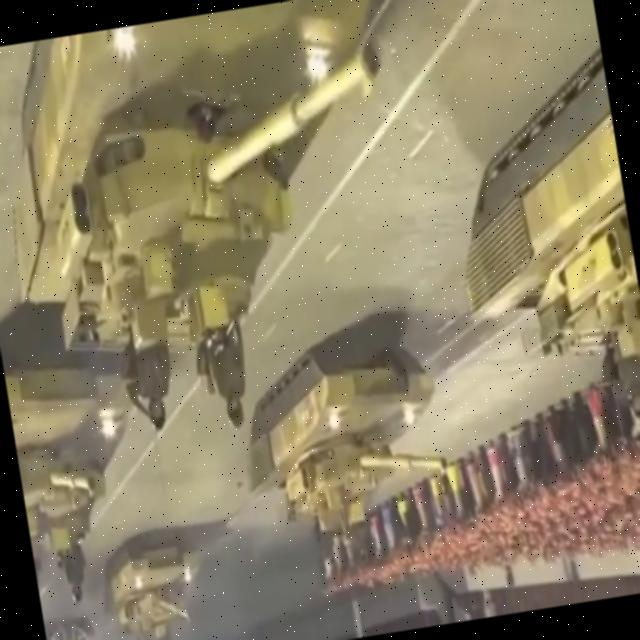north tank: (0, 0, 448, 374), (442, 45, 640, 453), (204, 310, 479, 562), (3, 344, 159, 594), (85, 505, 220, 640)
